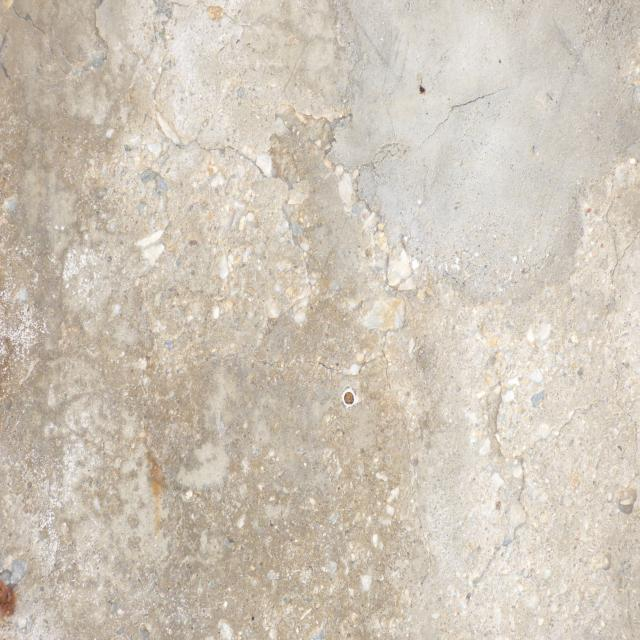corrosion: (141, 448, 173, 540), (0, 569, 20, 620), (335, 373, 361, 410), (412, 73, 432, 106)
